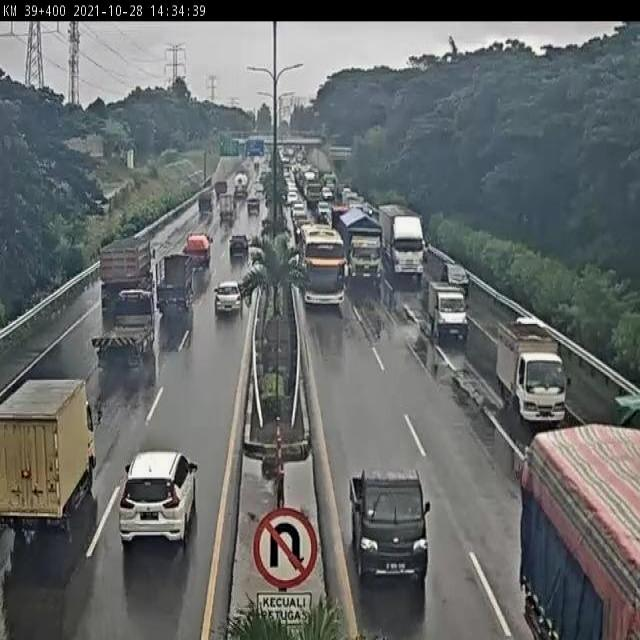Bus: (298, 222, 347, 310)
Car: (345, 463, 434, 587), (114, 448, 204, 559), (441, 261, 470, 297), (214, 281, 244, 314), (228, 233, 249, 259), (245, 196, 260, 216), (292, 204, 309, 220), (317, 203, 331, 218), (286, 190, 301, 204)
Truck: (520, 427, 640, 640), (0, 377, 106, 544), (493, 320, 574, 430), (92, 287, 155, 358), (378, 200, 426, 285), (98, 230, 158, 288), (339, 206, 382, 283), (428, 279, 470, 345), (156, 252, 195, 318), (182, 233, 214, 269), (218, 195, 235, 223), (197, 190, 216, 214)
